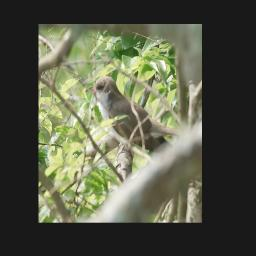Cuckoo: (86, 74, 183, 155)
